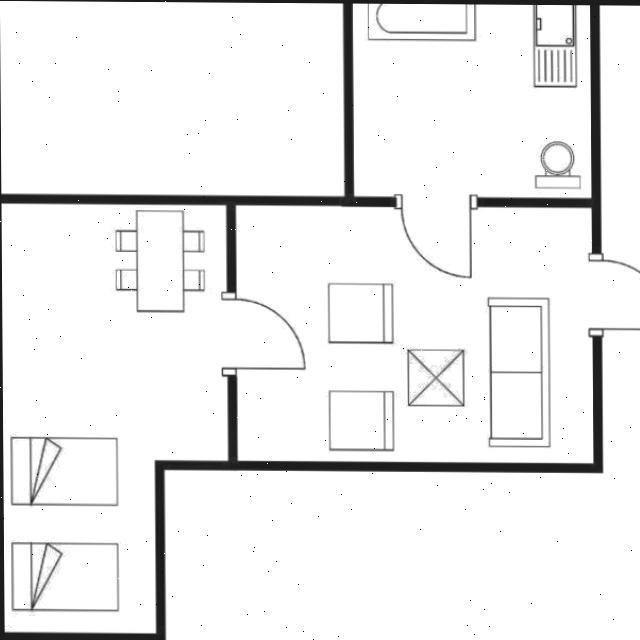room: (1, 201, 229, 634), (234, 204, 595, 462), (351, 3, 593, 197)
